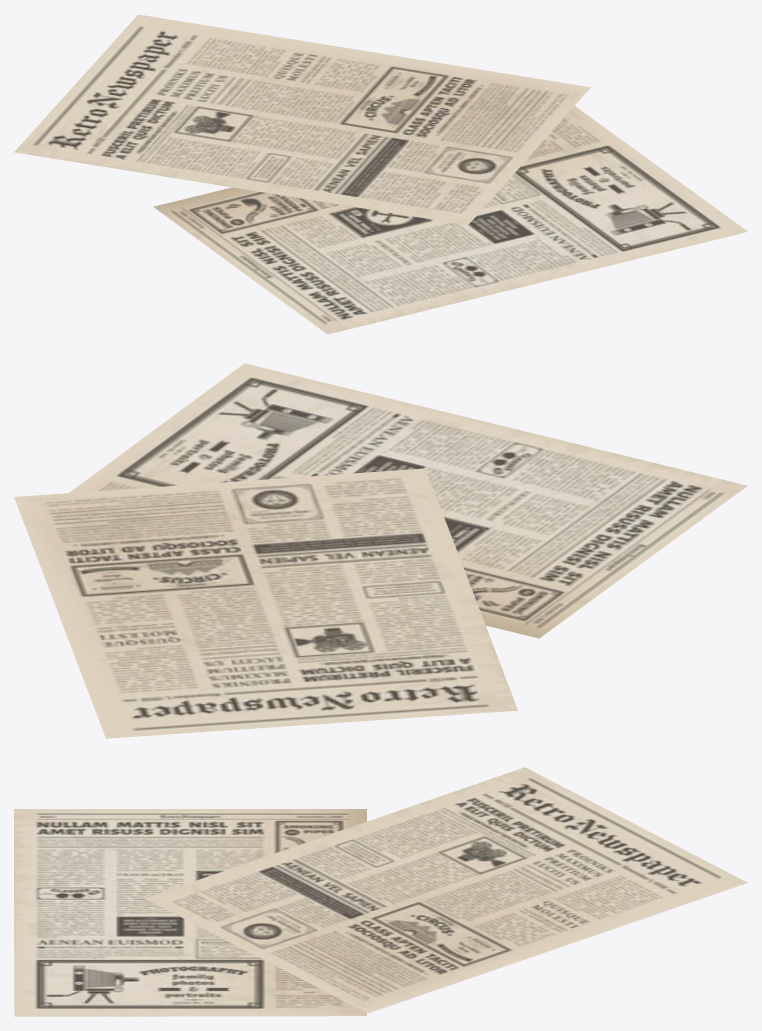
The model's file is Newspapers.fbx.
3 views of the same model, one above another, from view 1: azimuth 30°, elevation 25°; view 2: azimuth 150°, elevation 25°; view 3: azimuth 270°, elevation 25° (orthographic). The views are drawn at different scales.
Parts seen in each view (by area): view 1: newspaper_1; view 2: newspaper_1; view 3: newspaper_1.
Part boxes in pixels (x1=…): newspaper_1: x1=14, y1=14, x2=747, y2=334; newspaper_1: x1=14, y1=363, x2=747, y2=738; newspaper_1: x1=14, y1=767, x2=747, y2=1016.
Size of the model in its own units: 0.7003 by 0.8819 by 0.0161.
